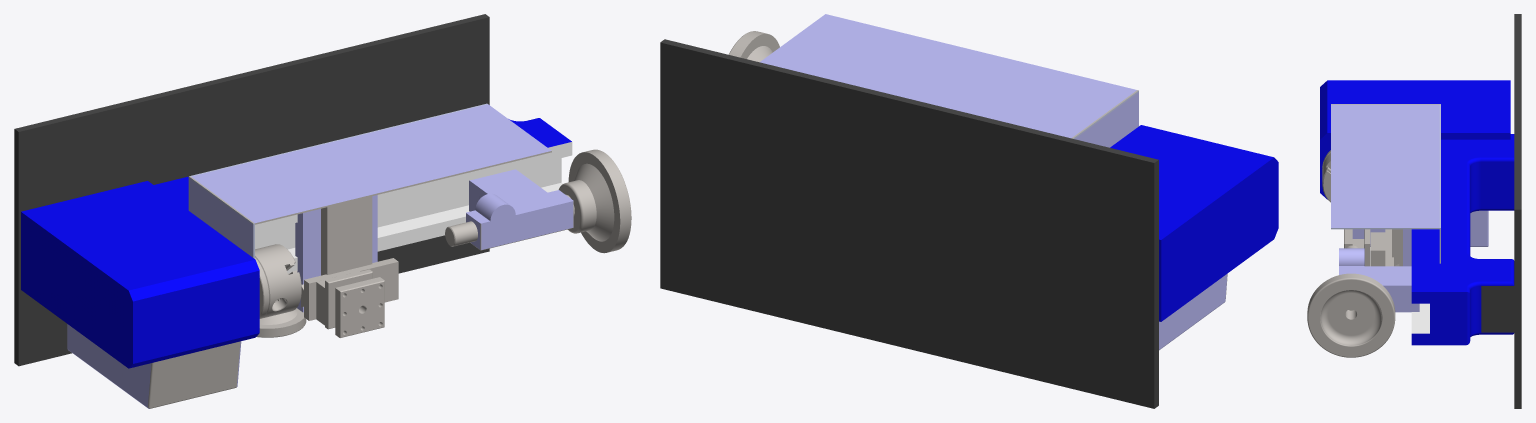
Rendered from tour_simple.obj.
3 views of the same model, side by side, from view 1: azimuth 30°, elevation 25°; view 2: azimuth 150°, elevation 25°; view 3: azimuth 270°, elevation 25° (orthographic). The views are drawn at different scales.
Parts seen in each view (by area): view 1: Solide67, Solide58, Solide61, Solide54, Solide66, Solide59, Solide63, Solide62, Solide56, Solide65, Solide69, Solide70 (+2 smaller); view 2: Solide67, Solide61, Solide58, Solide54, Solide66; view 3: Solide67, Solide61, Solide58, Solide66, Solide70, Solide54, Solide59, Solide71, Solide62, Solide63, Solide56, Solide65 (+1 smaller).
Boxes of the visible parts, box(x1,y1,x2,y2) form: Solide67: box(14, 14, 572, 366); Solide58: box(21, 181, 259, 368); Solide61: box(188, 103, 551, 258); Solide54: box(67, 324, 241, 408); Solide66: box(558, 149, 631, 253); Solide59: box(466, 190, 573, 250); Solide63: box(321, 196, 372, 275); Solide62: box(325, 269, 384, 337); Solide56: box(255, 244, 301, 318); Solide65: box(295, 195, 377, 312); Solide69: box(301, 258, 398, 320); Solide70: box(469, 169, 547, 211); Solide67: box(660, 39, 1158, 408); Solide61: box(760, 14, 1138, 147); Solide58: box(1110, 125, 1278, 321); Solide54: box(1159, 273, 1227, 350); Solide66: box(728, 31, 779, 62); Solide67: box(1411, 14, 1521, 408); Solide61: box(1331, 104, 1440, 263); Solide58: box(1320, 80, 1510, 199); Solide66: box(1307, 273, 1395, 357); Solide70: box(1364, 266, 1419, 312); Solide54: box(1352, 210, 1488, 246); Solide59: box(1339, 248, 1364, 275); Solide71: box(1370, 232, 1385, 266); Solide62: box(1344, 229, 1370, 266); Solide63: box(1392, 229, 1402, 266); Solide56: box(1322, 153, 1330, 202); Solide65: box(1403, 229, 1411, 266).
Size of the model in its own units: 2974 by 1350 by 1315.
